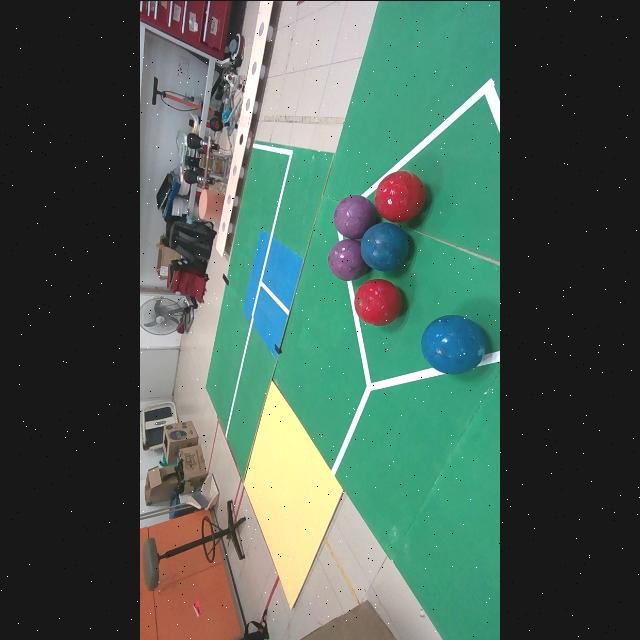B: (422, 313, 486, 374), (361, 223, 408, 269)
P: (334, 195, 377, 238), (328, 238, 370, 280)
R: (375, 170, 427, 222), (355, 278, 402, 325)
